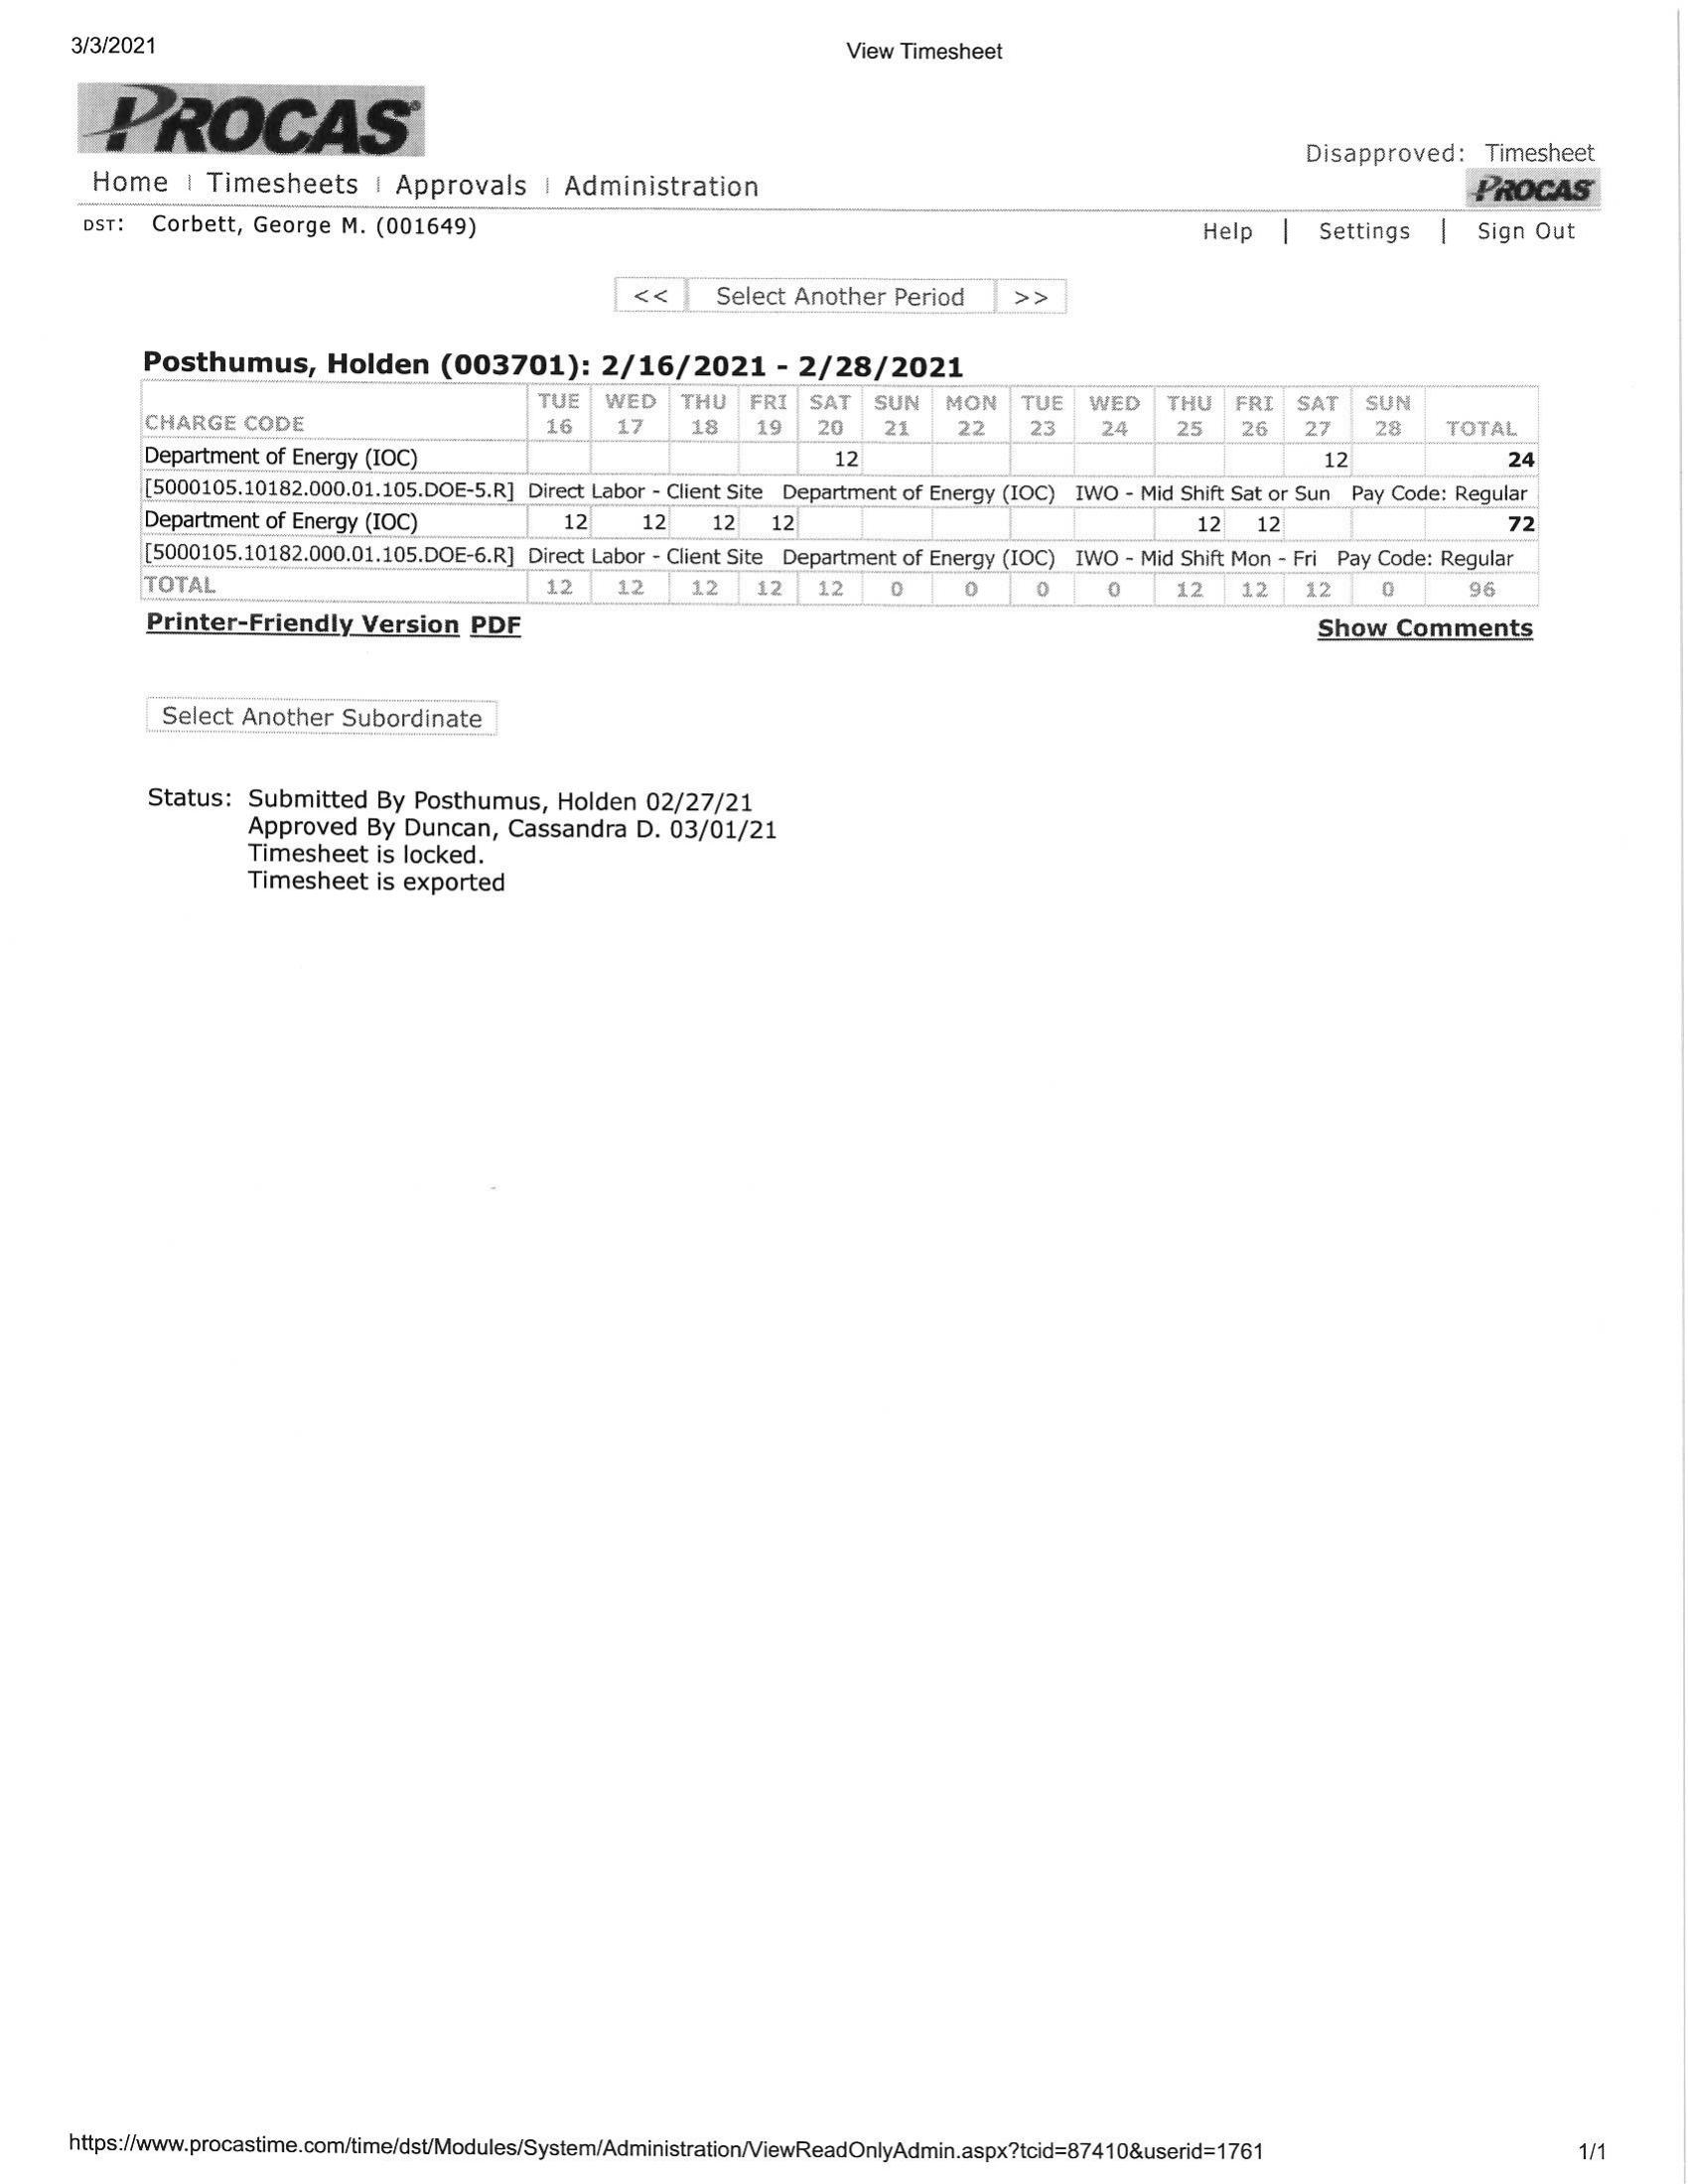table: (131, 370, 1551, 613)
